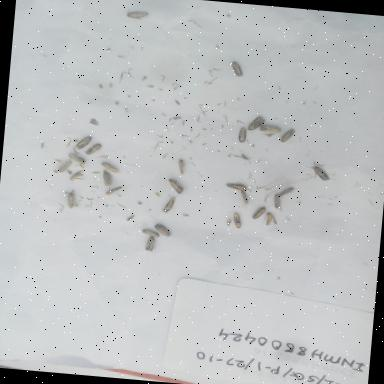pbw: (306, 164, 332, 182), (228, 58, 248, 80), (141, 234, 162, 254), (247, 114, 270, 132), (166, 178, 190, 195), (258, 122, 284, 136), (127, 8, 151, 23), (274, 184, 296, 200), (73, 134, 92, 152), (100, 169, 117, 189), (84, 140, 104, 157), (152, 222, 173, 238), (162, 195, 178, 216), (63, 191, 80, 210), (270, 194, 286, 213), (225, 181, 250, 193), (52, 159, 72, 174), (99, 162, 122, 175), (104, 184, 125, 198), (263, 211, 280, 228), (138, 230, 162, 242), (229, 212, 245, 230), (234, 191, 252, 207), (68, 152, 88, 166), (279, 128, 295, 145), (236, 126, 250, 145), (252, 206, 268, 222), (174, 158, 188, 176), (68, 171, 86, 182)
